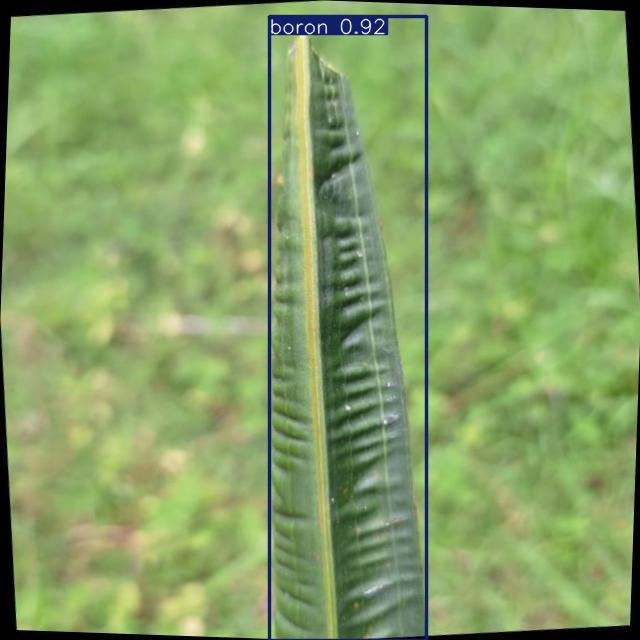nitrogen: (269, 17, 426, 640)
